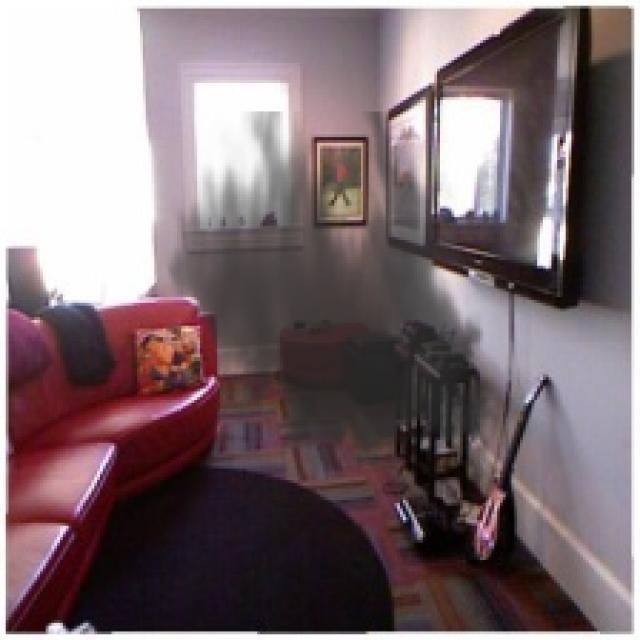Smoke: (157, 112, 509, 477)
